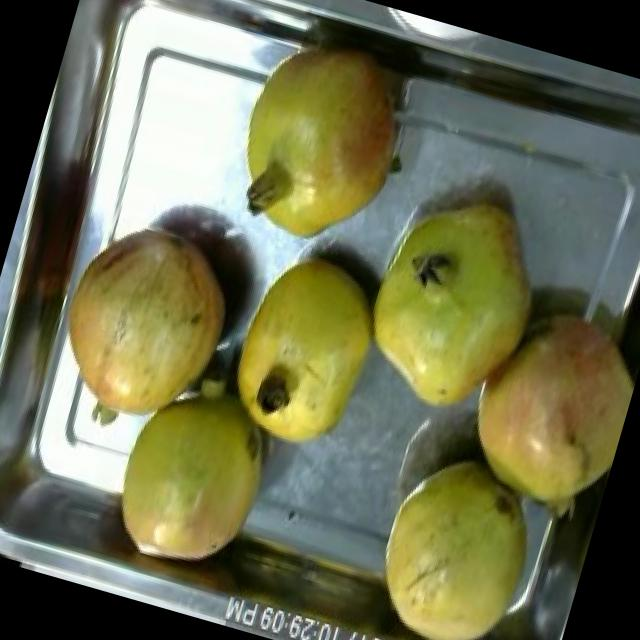fruit: (334, 158, 576, 446), (426, 262, 640, 546), (28, 197, 256, 457), (209, 18, 438, 270), (206, 234, 406, 478), (89, 355, 297, 589), (348, 427, 563, 640)
